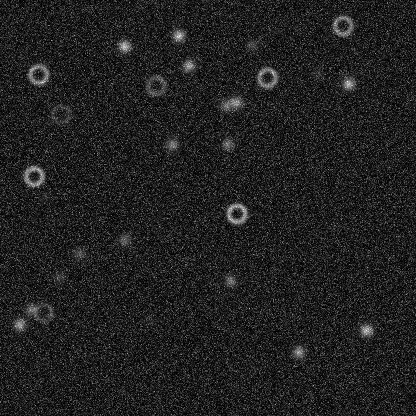Ring: (48, 102, 72, 126), (26, 62, 50, 86), (224, 201, 248, 225), (21, 163, 45, 187), (143, 73, 167, 97), (31, 300, 55, 324), (330, 13, 354, 37), (255, 65, 279, 89)
Spot: (70, 245, 86, 261), (228, 94, 244, 110), (218, 97, 234, 113), (308, 66, 324, 82), (51, 269, 67, 285), (290, 344, 306, 360), (219, 135, 235, 151), (221, 272, 237, 288), (36, 188, 52, 204), (11, 316, 27, 332), (22, 301, 38, 317), (170, 27, 186, 43), (141, 312, 157, 328), (180, 57, 196, 73), (244, 36, 260, 52), (116, 231, 132, 247), (116, 38, 132, 54), (163, 136, 179, 152), (358, 321, 374, 337), (340, 75, 356, 91)
